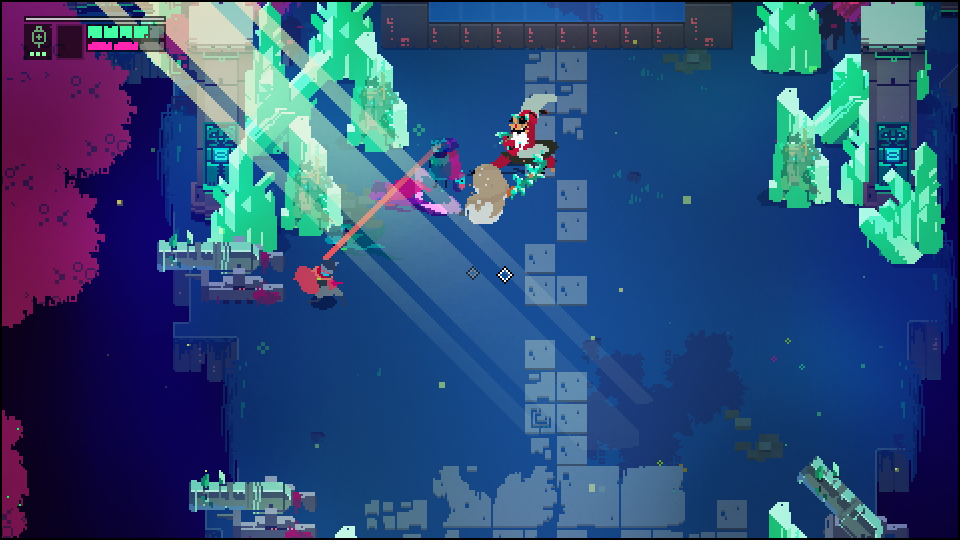hanged_man: (480, 91, 553, 206)
player: (290, 262, 348, 308)
